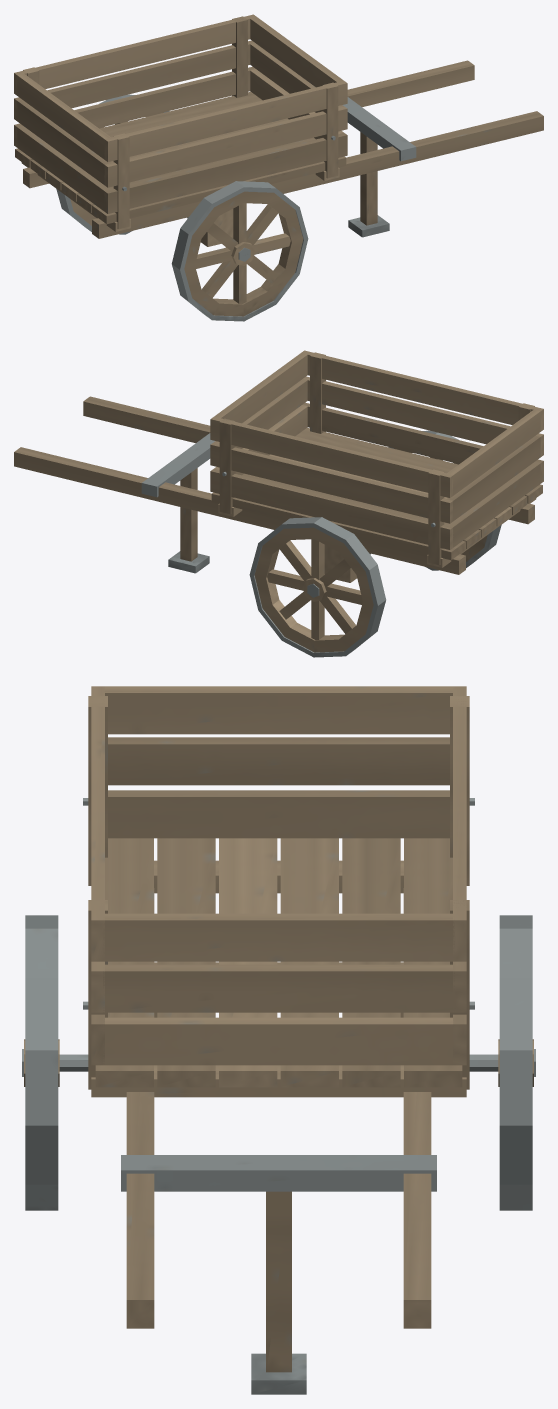
File: farmland_wood_cart_empty.glb
3 views of the same model, one above another, from view 1: azimuth 30°, elevation 25°; view 2: azimuth 150°, elevation 25°; view 3: azimuth 270°, elevation 25° (orthographic). The views are drawn at different scales.
Visible parts, largest first — view 1: WoodCartEmpty; view 2: WoodCartEmpty; view 3: WoodCartEmpty.
Part boxes in pixels (<box>): WoodCartEmpty: <box>14,14,543,321</box>; WoodCartEmpty: <box>14,350,543,657</box>; WoodCartEmpty: <box>22,686,535,1394</box>.
Size of what is drawn, in the model's own units: 2.6 by 1.1 by 1.3.
Materials: 1 (1 with a texture image).
